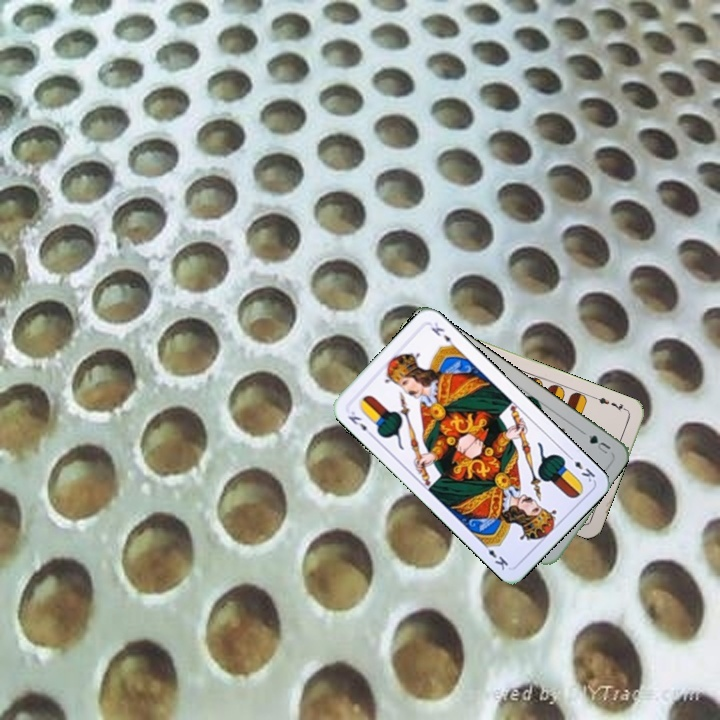E7: (591, 393, 630, 414)
EK: (563, 451, 598, 485), (344, 407, 376, 439)
GU: (584, 431, 613, 458)
